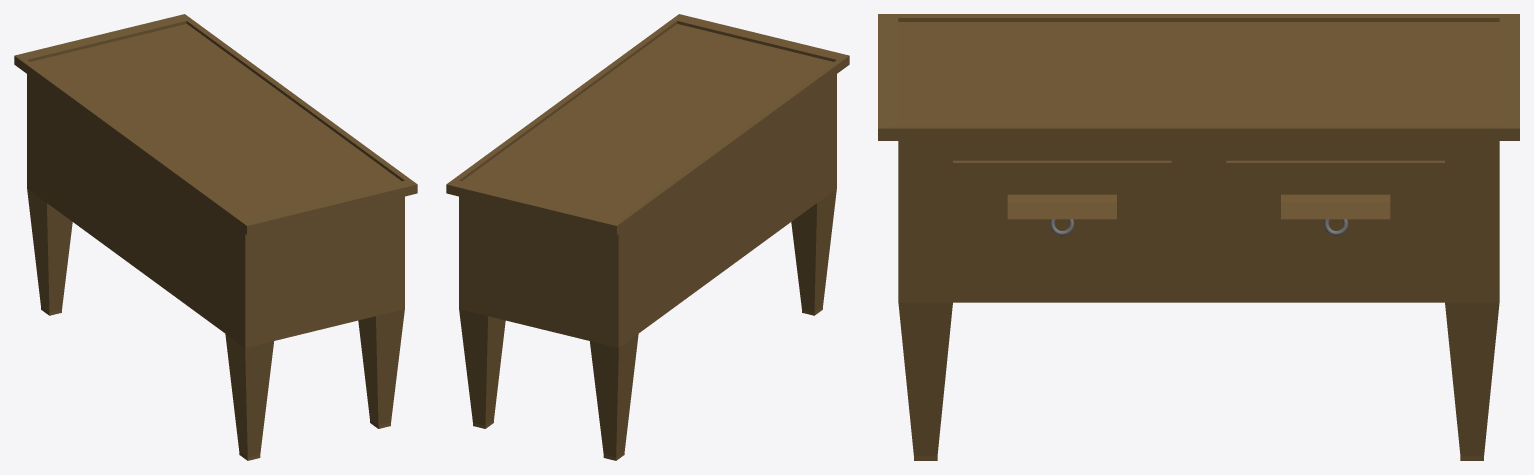
Rendered from Table.fbx.
3 renders of one model, left to right at view 1: azimuth 30°, elevation 25°; view 2: azimuth 150°, elevation 25°; view 3: azimuth 270°, elevation 25°, orthographic. The views are drawn at different scales.
Visible parts, largest first — view 1: Cube; view 2: Cube; view 3: Cube.
Part boxes in pixels (x1,y1,x2,y2): Cube: (14, 14, 417, 460); Cube: (446, 14, 849, 460); Cube: (878, 14, 1519, 460).
Size of the model in its own units: 406 by 524 by 893.
